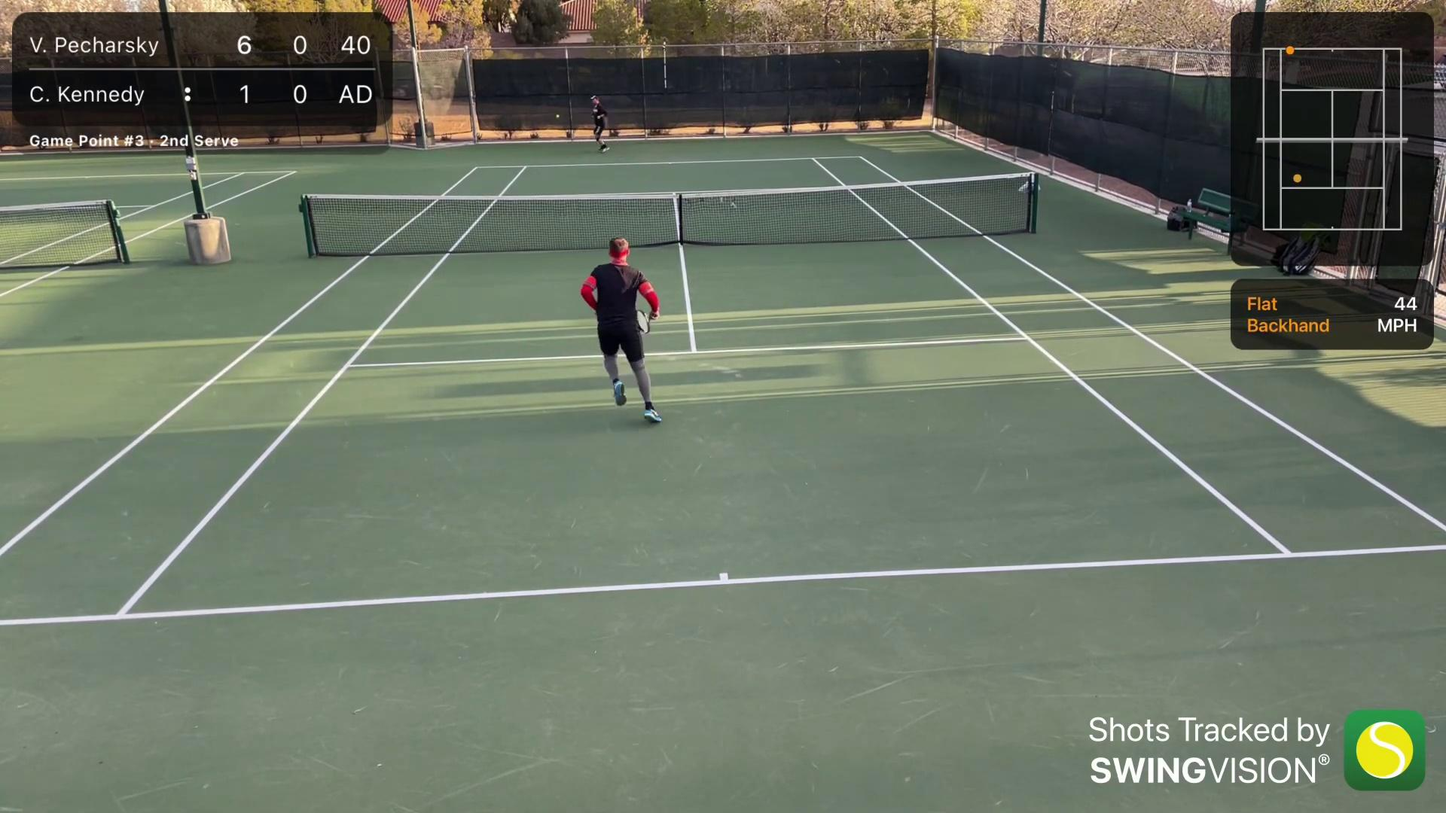ball: (554, 114, 559, 119)
